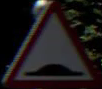Speed Breaker ahead: (9, 6, 89, 79)
